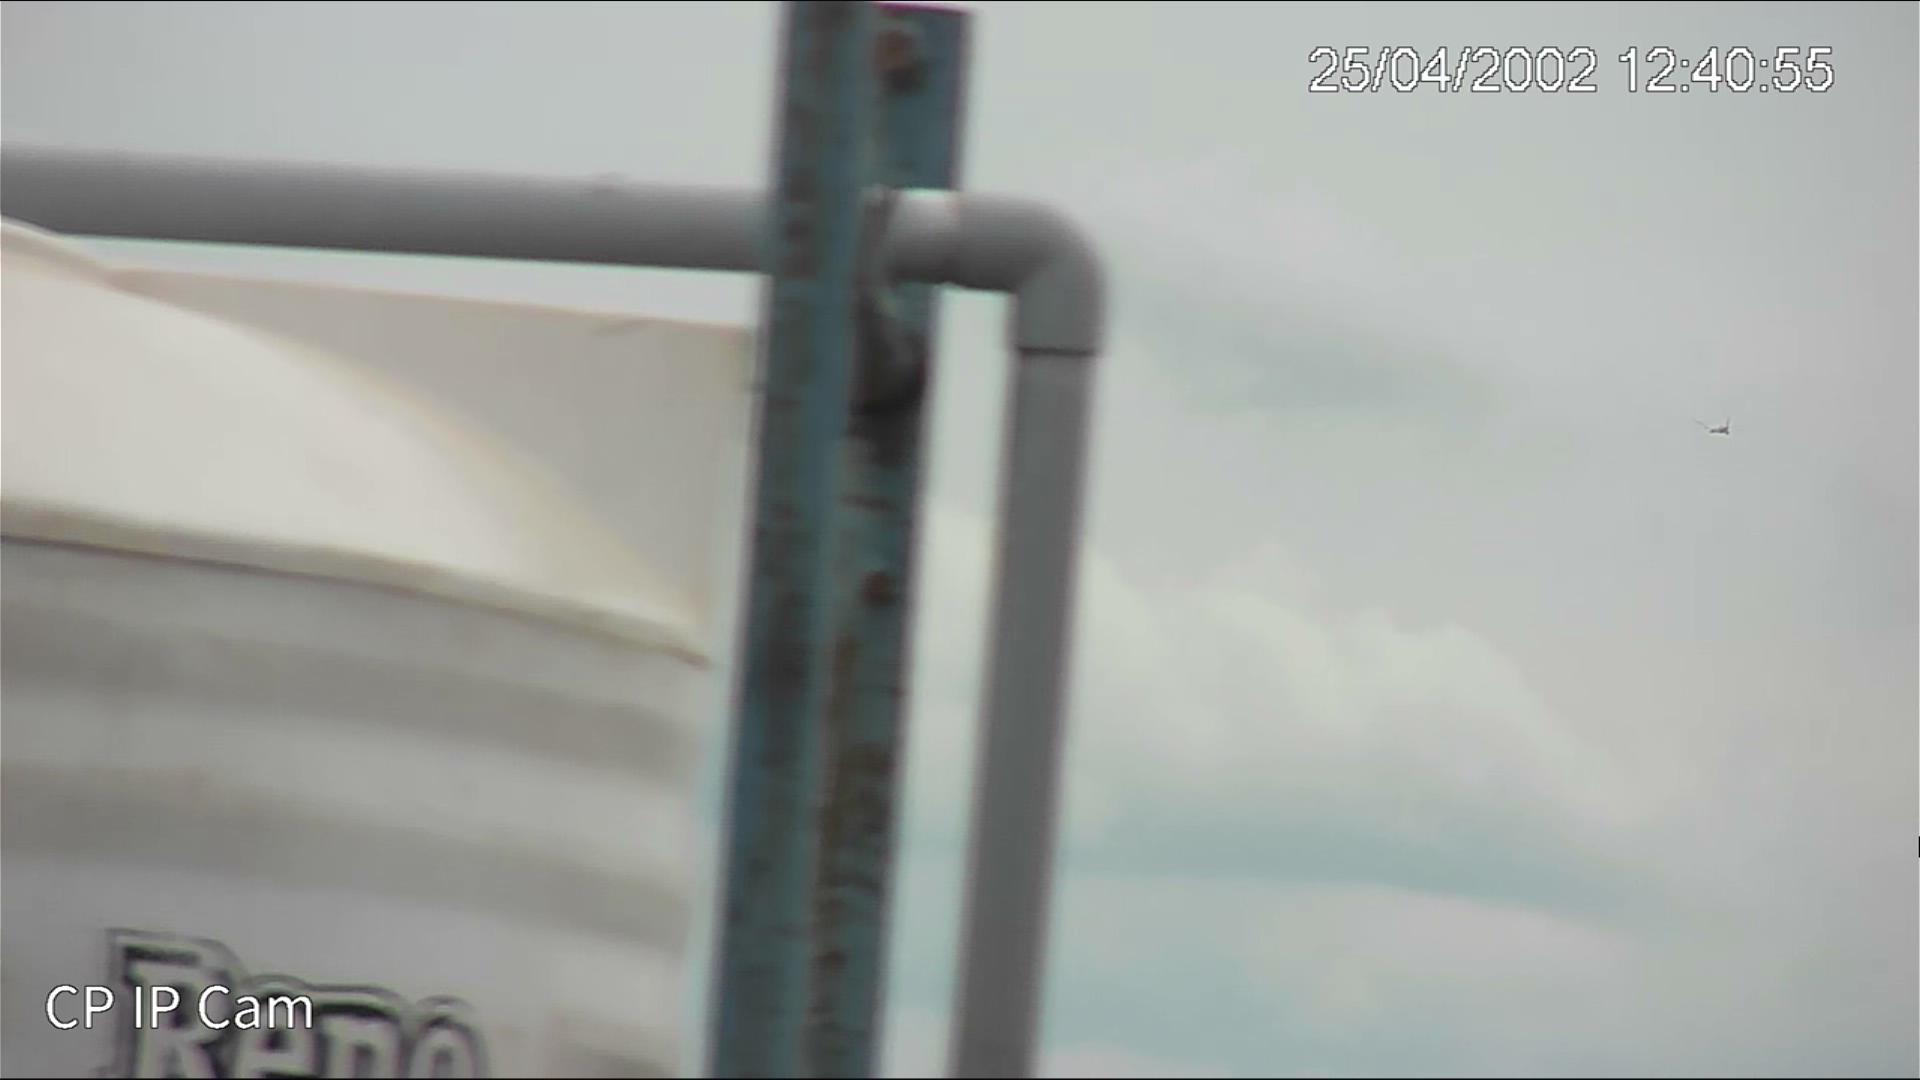SU_30: (1698, 418, 1731, 439)
